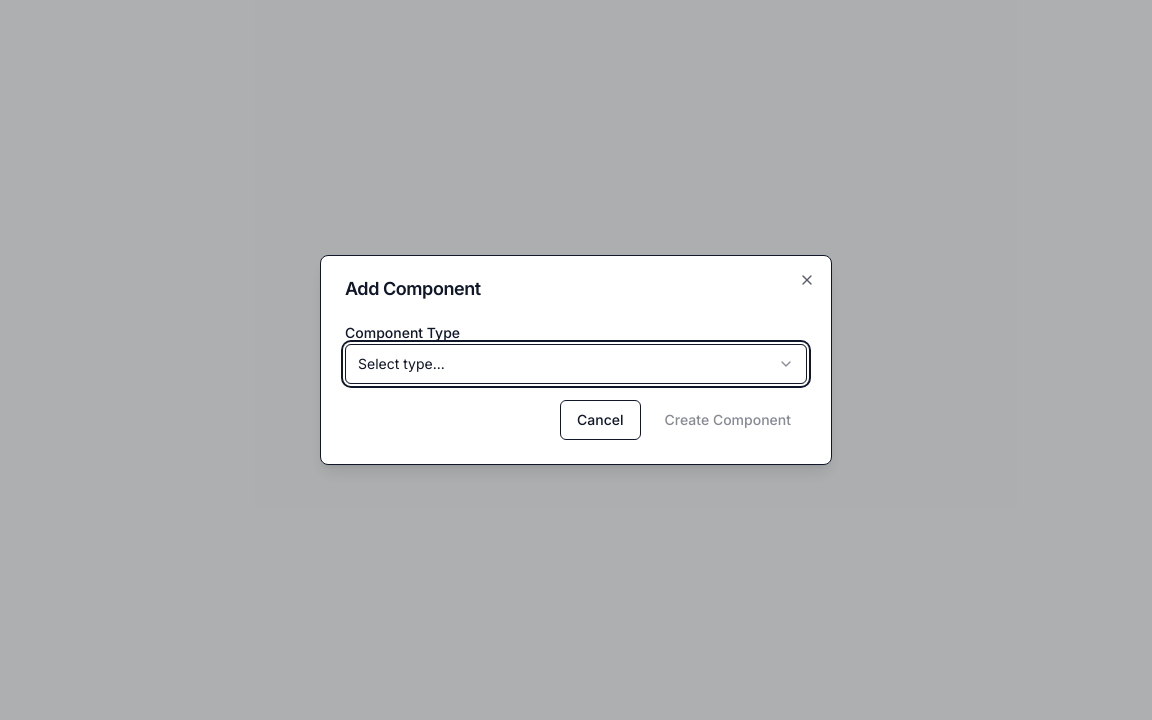
AddComponentModal › Type dropdown › renders type dropdown with all component types
Expected: the heading "Add Component" is shown, [345, 278, 481, 299]
# Open the type dropdown
Click the dropdown at point(401, 364), box [345, 344, 807, 384]
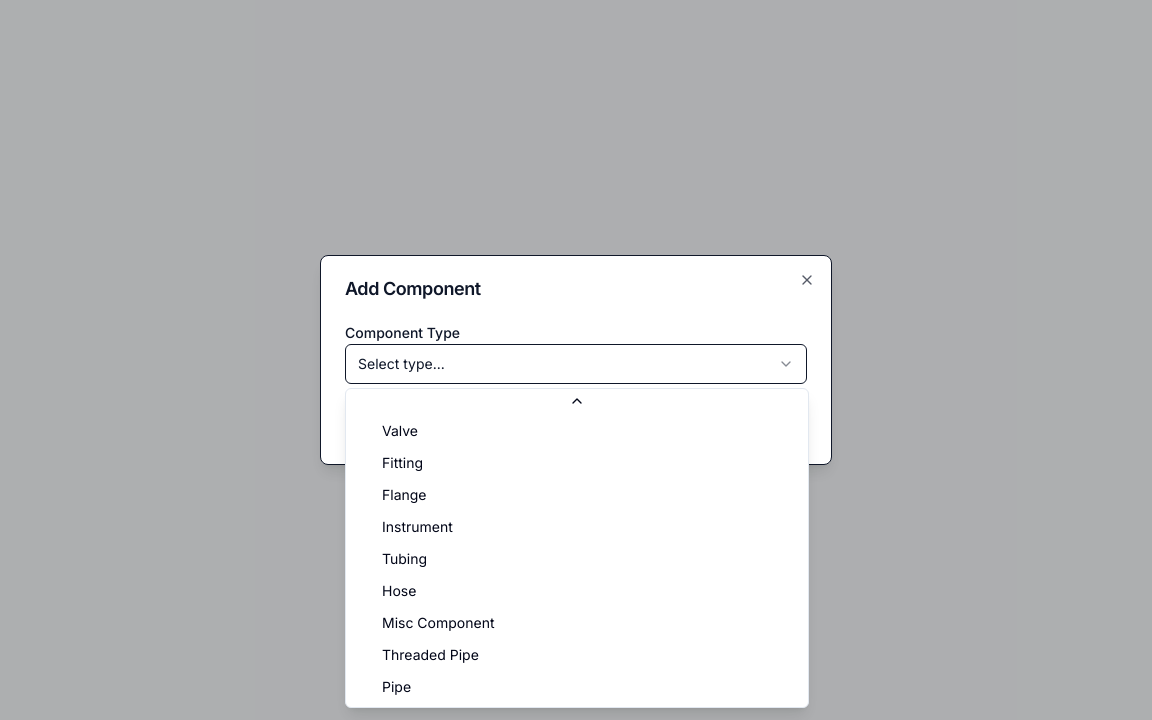
Expected: the option "Valve" is shown, [382, 422, 418, 439]
Expected: the option "Fitting" is shown, [382, 454, 423, 471]
Expected: the option "Flange" is shown, [382, 486, 426, 503]
